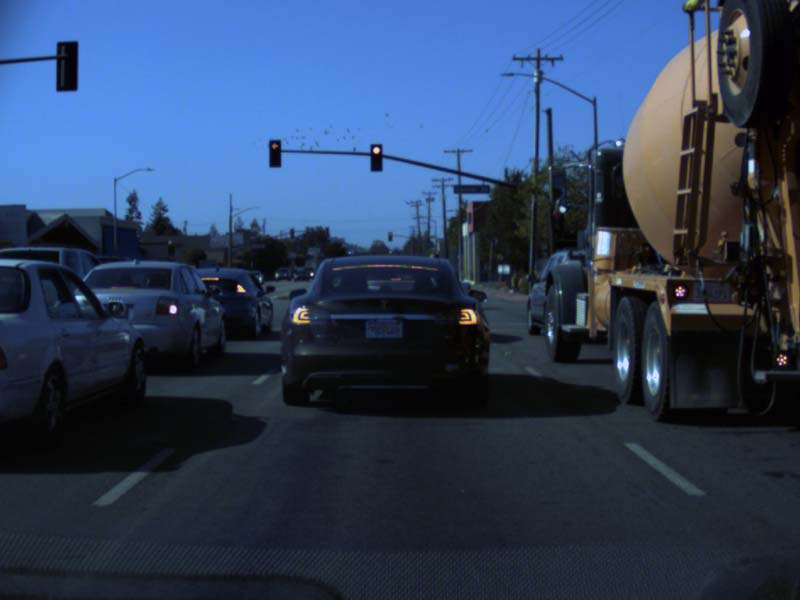Red: (269, 139, 280, 167), (371, 144, 380, 169)
